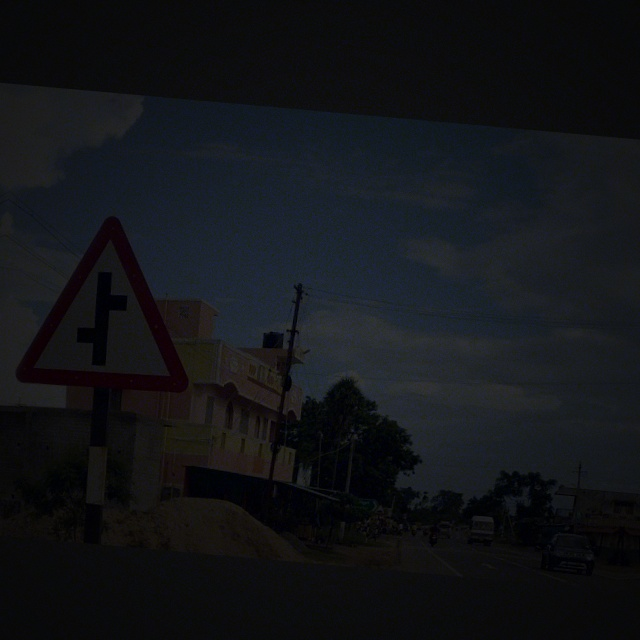Staggered_Intersection: (18, 202, 214, 400)
